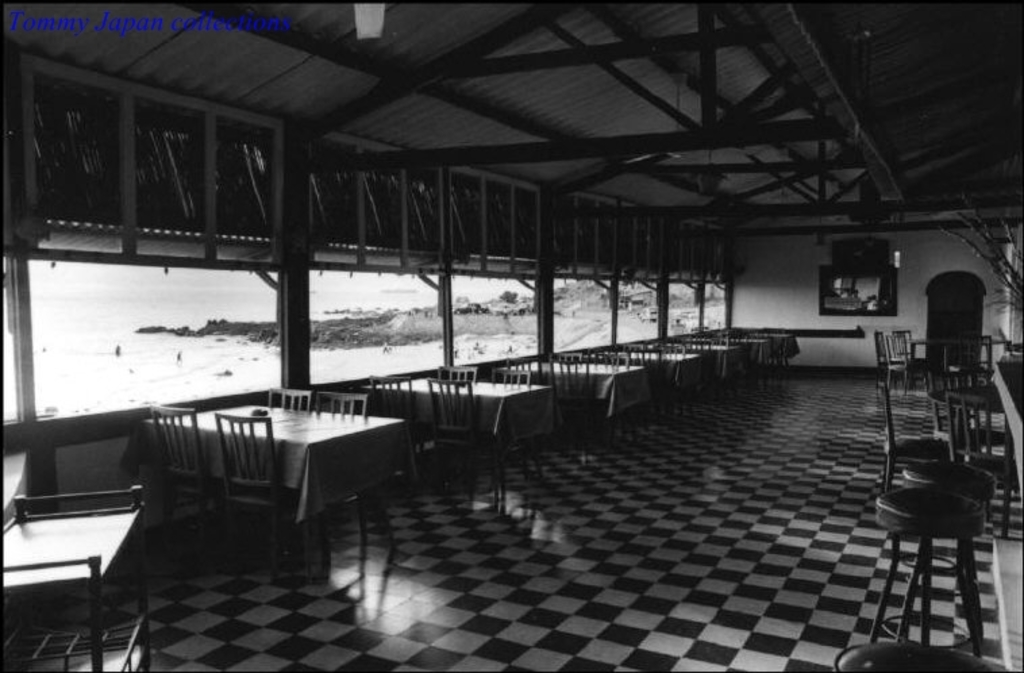Table: (135, 401, 419, 570), (362, 370, 554, 514), (1, 488, 150, 670), (513, 361, 643, 431), (928, 381, 1010, 438), (588, 350, 698, 384), (915, 338, 1010, 366), (747, 330, 794, 372), (708, 341, 742, 380)
